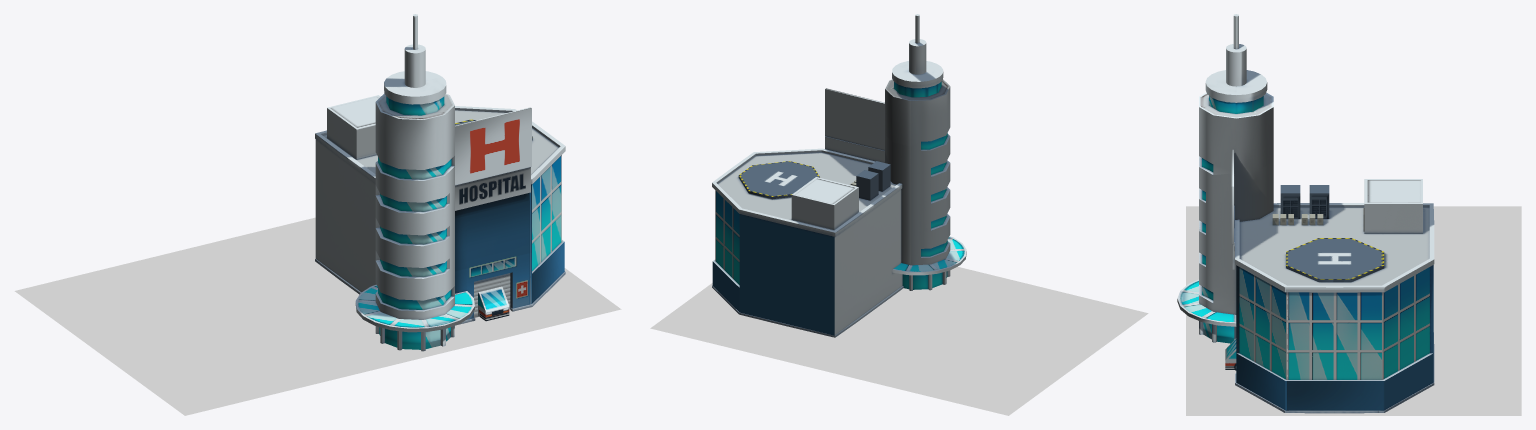
File: hospital_building.fbx
3 views of the same model, side by side, from view 1: azimuth 30°, elevation 25°; view 2: azimuth 150°, elevation 25°; view 3: azimuth 270°, elevation 25° (orthographic). The views are drawn at different scales.
Parts seen in each view (by area): view 1: pPlane1, main_building, tower, sign_cross, main_glasses, roof_entrance, roof, sign_hospital, roof1, main_side_top, glass_floorG, roof3 (+8 smaller); view 2: pPlane1, main_building, tower, sign_cross, roof_entrance, main_side_top, heli_stage, main_glasses, roof, roof1, sign_hospital, roof3 (+3 smaller); view 3: pPlane1, main_glasses, main_building, tower, heli_stage, roof_entrance, main_side_top, roof1, air_con_big_1 (×2), roof, roof3, main_side_bottom (+2 smaller).
Boxes of the visible parts, x1,y1,x2,y2 form: pPlane1: (14,217,621,415); main_building: (315,110,564,319); tower: (375,93,454,319); sign_cross: (455,107,531,185); main_glasses: (532,155,561,270); roof_entrance: (327,95,380,159); roof: (355,284,474,332); sign_hospital: (455,167,530,210); roof1: (384,71,446,104); main_side_top: (315,106,565,184); glass_floorG: (379,327,450,349); roof3: (404,44,425,87); pPlane1: (650,266,1148,415); main_building: (712,152,902,335); tower: (885,79,950,265); sign_cross: (825,88,884,150); roof_entrance: (791,177,858,229); main_side_top: (712,148,902,236); heli_stage: (738,161,819,199); main_glasses: (715,190,739,284); roof: (892,236,966,275); roof1: (892,61,943,88); sign_hospital: (825,136,884,162); roof3: (909,39,926,74); pPlane1: (1186,206,1521,415); main_glasses: (1239,267,1429,379); main_building: (1236,207,1433,410); tower: (1199,92,1273,314); heli_stage: (1286,238,1384,282); roof_entrance: (1364,179,1422,233); main_side_top: (1234,203,1434,292); roof1: (1205,70,1267,102); air_con_big_1 (×2): (1280,185,1329,218); roof: (1177,279,1236,326); roof3: (1226,44,1246,86); main_side_bottom: (1235,332,1434,413).
Bounding box in the file's own units: 252 × 178 × 175.
3 materials, 2 textured.
